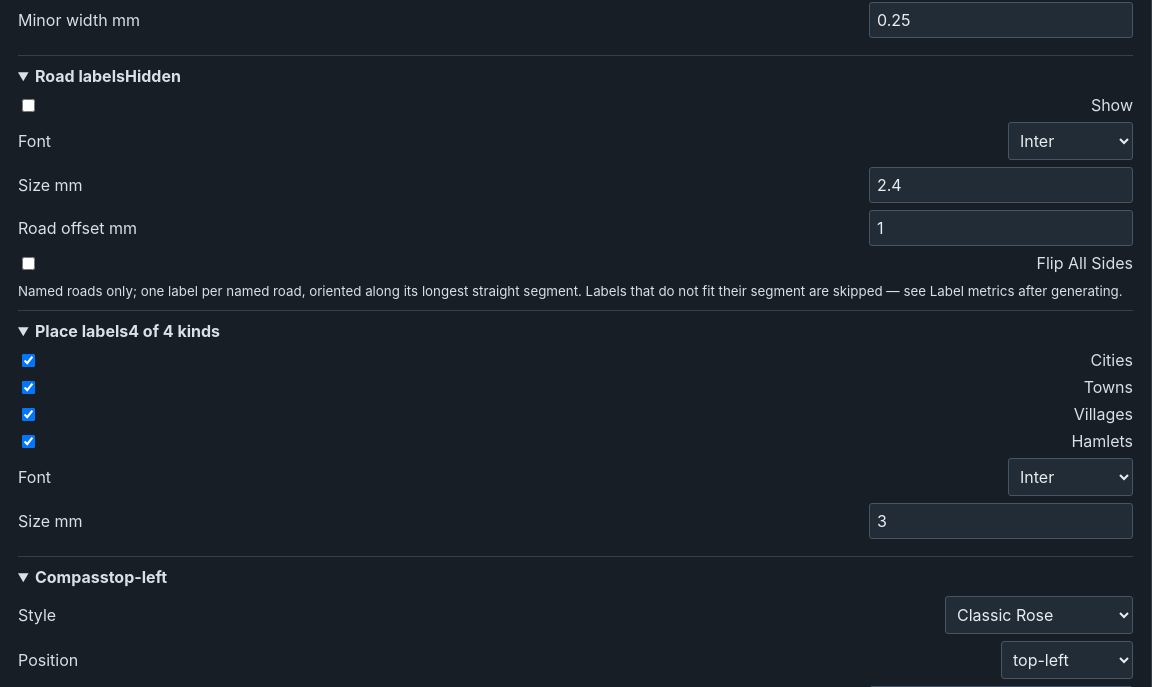
Scenario: Controls: settings that do more than store a value › label sections summarise what is on: place kinds count down to Hidden, road labels to Shown
(page scrolled)
What coordinates should you click on to do the following:
click the checkbox labelled "Cities"
I would click on:
 (28, 360)
Its box is [22,354,35,366].
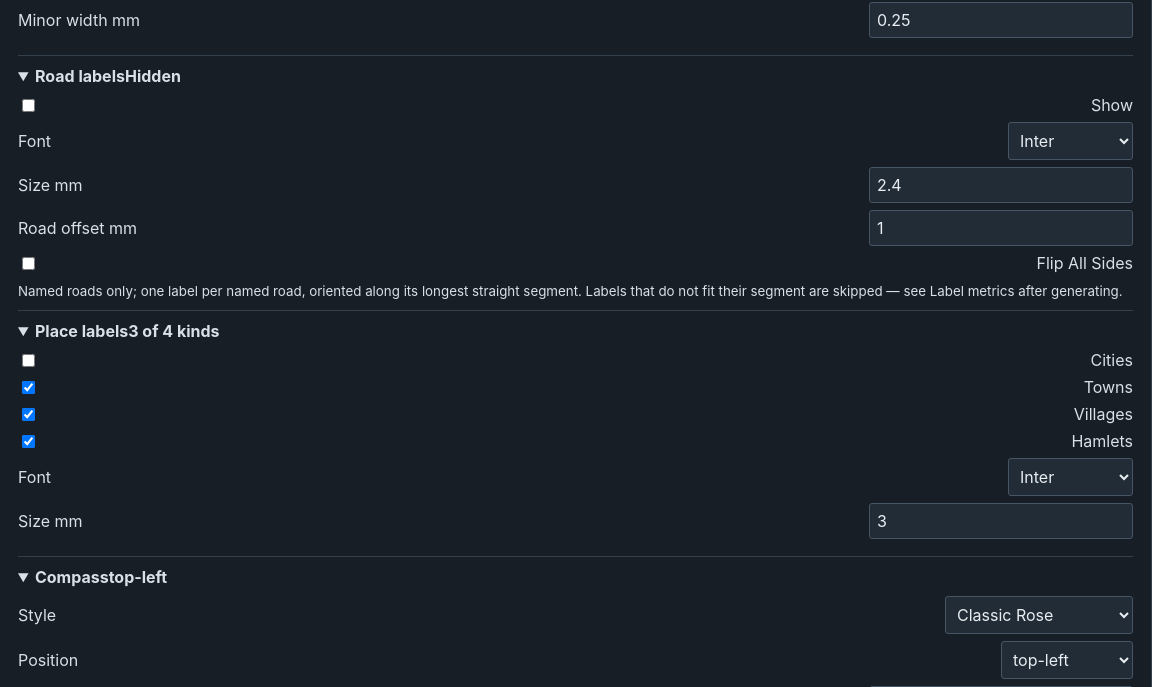
What coordinates should you click on to do the following:
click the checkbox labelled "Towns"
I would click on:
 (28, 387)
Its box is [22,380,35,394].
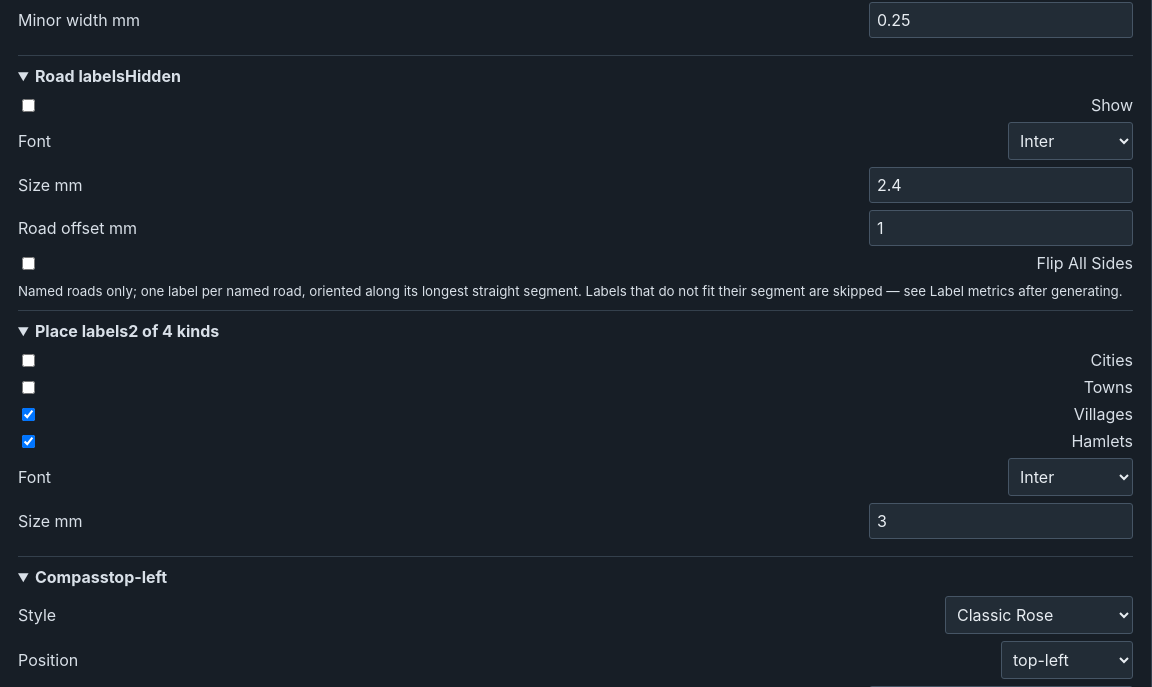
What coordinates should you click on to do the following:
click the checkbox labelled "Villages"
I would click on:
 (28, 414)
Its box is [22,408,35,420].
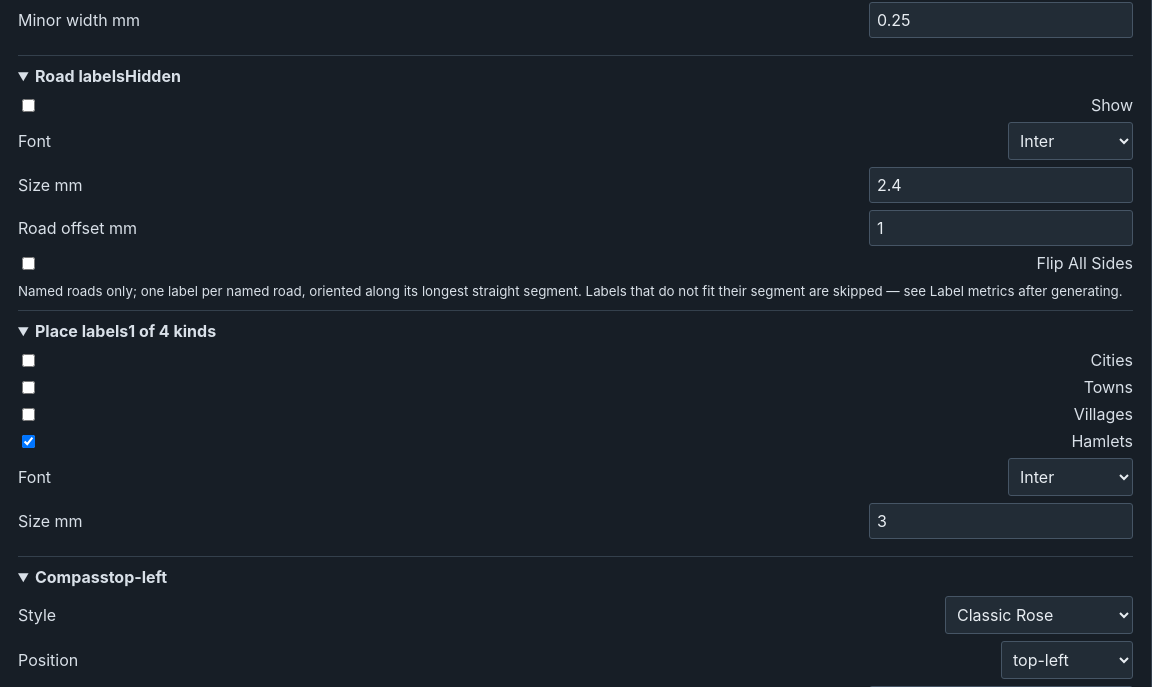
What coordinates should you click on to do the following:
click the checkbox labelled "Hamlets"
I would click on:
 (28, 441)
Its box is [22,434,35,448].
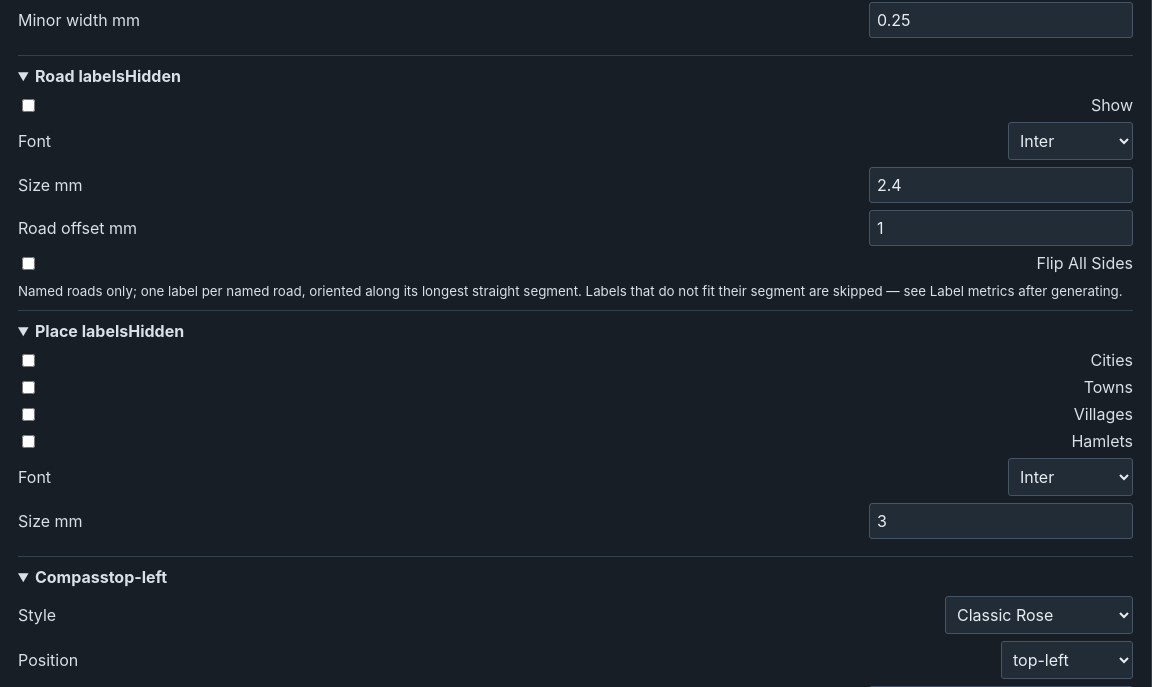
Expected: the heading "Road labelsHidden" is shown, [35,66,181,86]
Expected: the heading "Place labelsHidden" is shown, [35,321,184,341]
What coordinates should you click on to do the following:
click the checkbox labelled "Show"
I would click on:
 (28, 105)
Its box is [22,98,35,112].
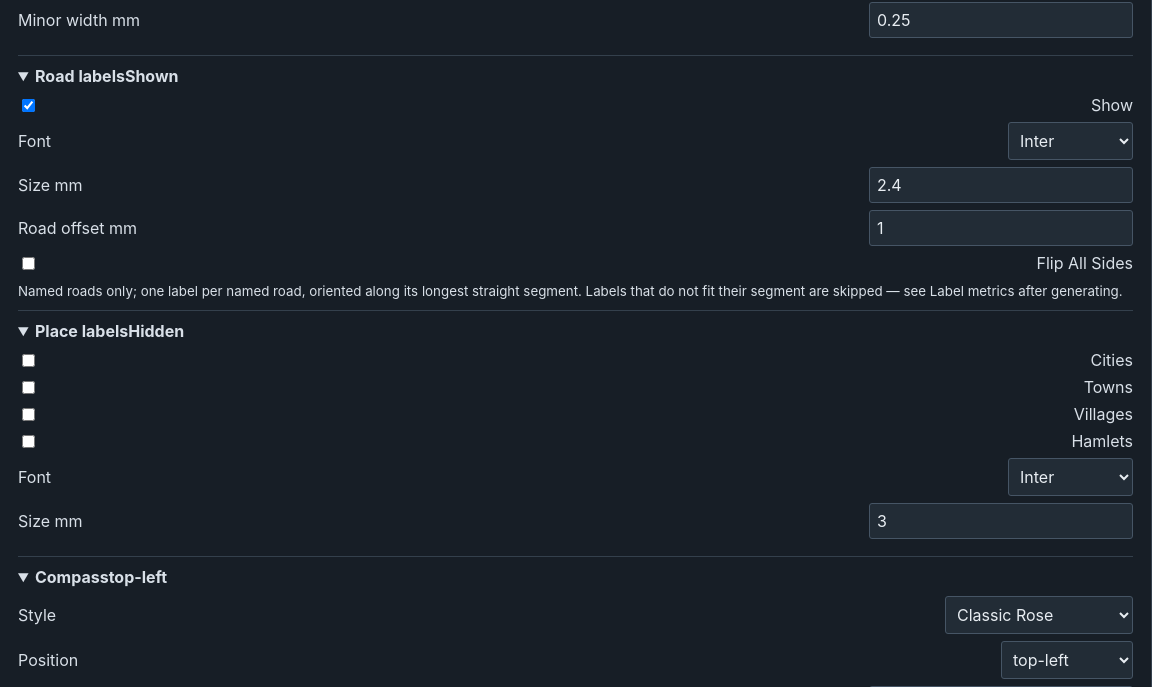
Expected: the heading "Road labelsShown" is shown, [35,66,178,86]
